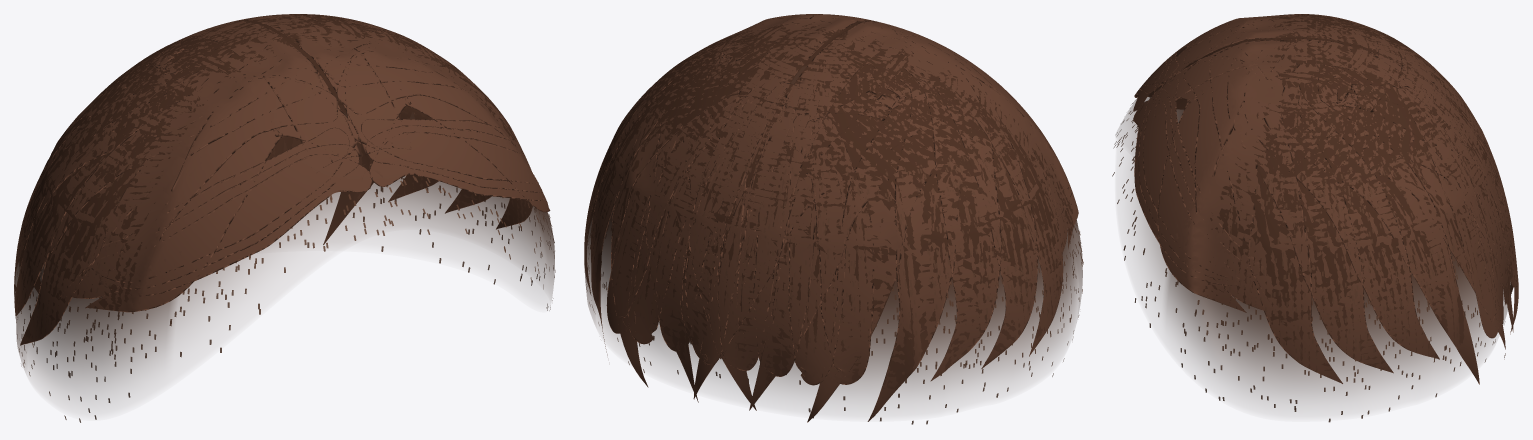
The model's file is Masculine-middle-part-covered248-hair.glb.
The picture shows the model from 3 angles, left to right: view 1: azimuth 30°, elevation 25°; view 2: azimuth 150°, elevation 25°; view 3: azimuth 270°, elevation 25°; orthographic projection. The views are drawn at different scales.
Parts seen in each view (by area): view 1: 226 hair / Hair / chestnut226.002, 226 hair / Hair / neutral coverage235.002, 226 hair / Hair / cut grain235.002; view 2: 226 hair / Hair / chestnut226.002, 226 hair / Hair / neutral coverage235.002, 226 hair / Hair / cut grain235.002; view 3: 226 hair / Hair / chestnut226.002, 226 hair / Hair / neutral coverage235.002, 226 hair / Hair / cut grain235.002.
Boxes of the visible parts, bbox=[...] form: 226 hair / Hair / chestnut226.002: bbox=[14, 14, 550, 345]; 226 hair / Hair / neutral coverage235.002: bbox=[14, 14, 554, 400]; 226 hair / Hair / cut grain235.002: bbox=[14, 69, 555, 422]; 226 hair / Hair / chestnut226.002: bbox=[584, 14, 1078, 422]; 226 hair / Hair / neutral coverage235.002: bbox=[584, 21, 1082, 404]; 226 hair / Hair / cut grain235.002: bbox=[584, 80, 1083, 424]; 226 hair / Hair / chestnut226.002: bbox=[1133, 14, 1518, 384]; 226 hair / Hair / neutral coverage235.002: bbox=[1117, 14, 1513, 404]; 226 hair / Hair / cut grain235.002: bbox=[1112, 55, 1513, 422].
Size of the model in its own units: 0.9596 by 0.6126 by 0.7772.
